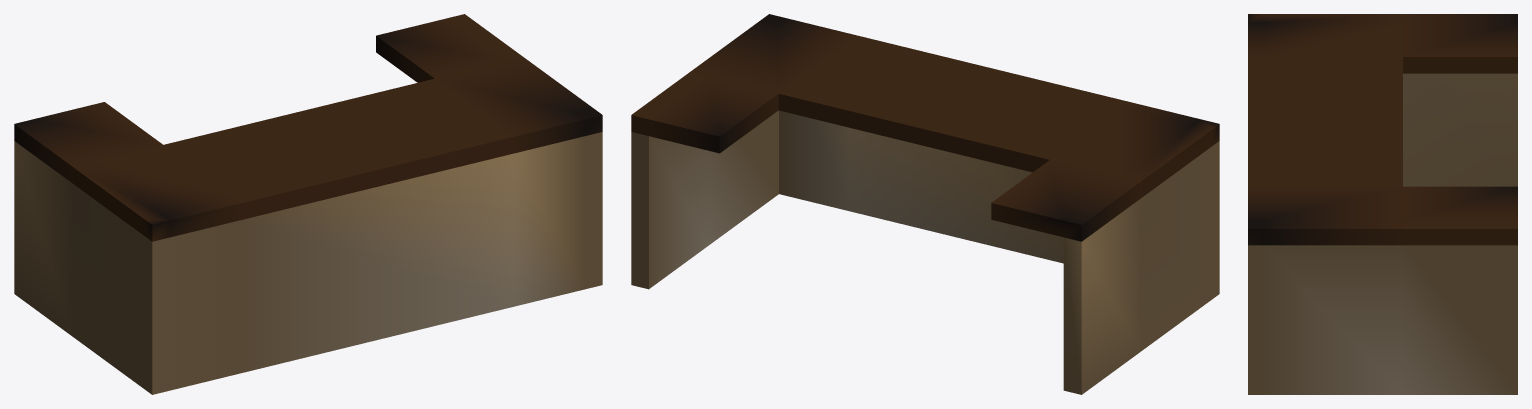
Rendered from receptionTable.fbx.
3 views of the same model, side by side, from view 1: azimuth 30°, elevation 25°; view 2: azimuth 150°, elevation 25°; view 3: azimuth 270°, elevation 25° (orthographic). The views are drawn at different scales.
Parts seen in each view (by area): view 1: ReceptionDesk; view 2: ReceptionDesk; view 3: ReceptionDesk.
Part boxes in pixels (x1=…): ReceptionDesk: x1=14, y1=14, x2=602, y2=394; ReceptionDesk: x1=631, y1=14, x2=1219, y2=394; ReceptionDesk: x1=1248, y1=14, x2=1517, y2=394.
Size of the model in its own units: 2.35 by 0.8489 by 1.25.
